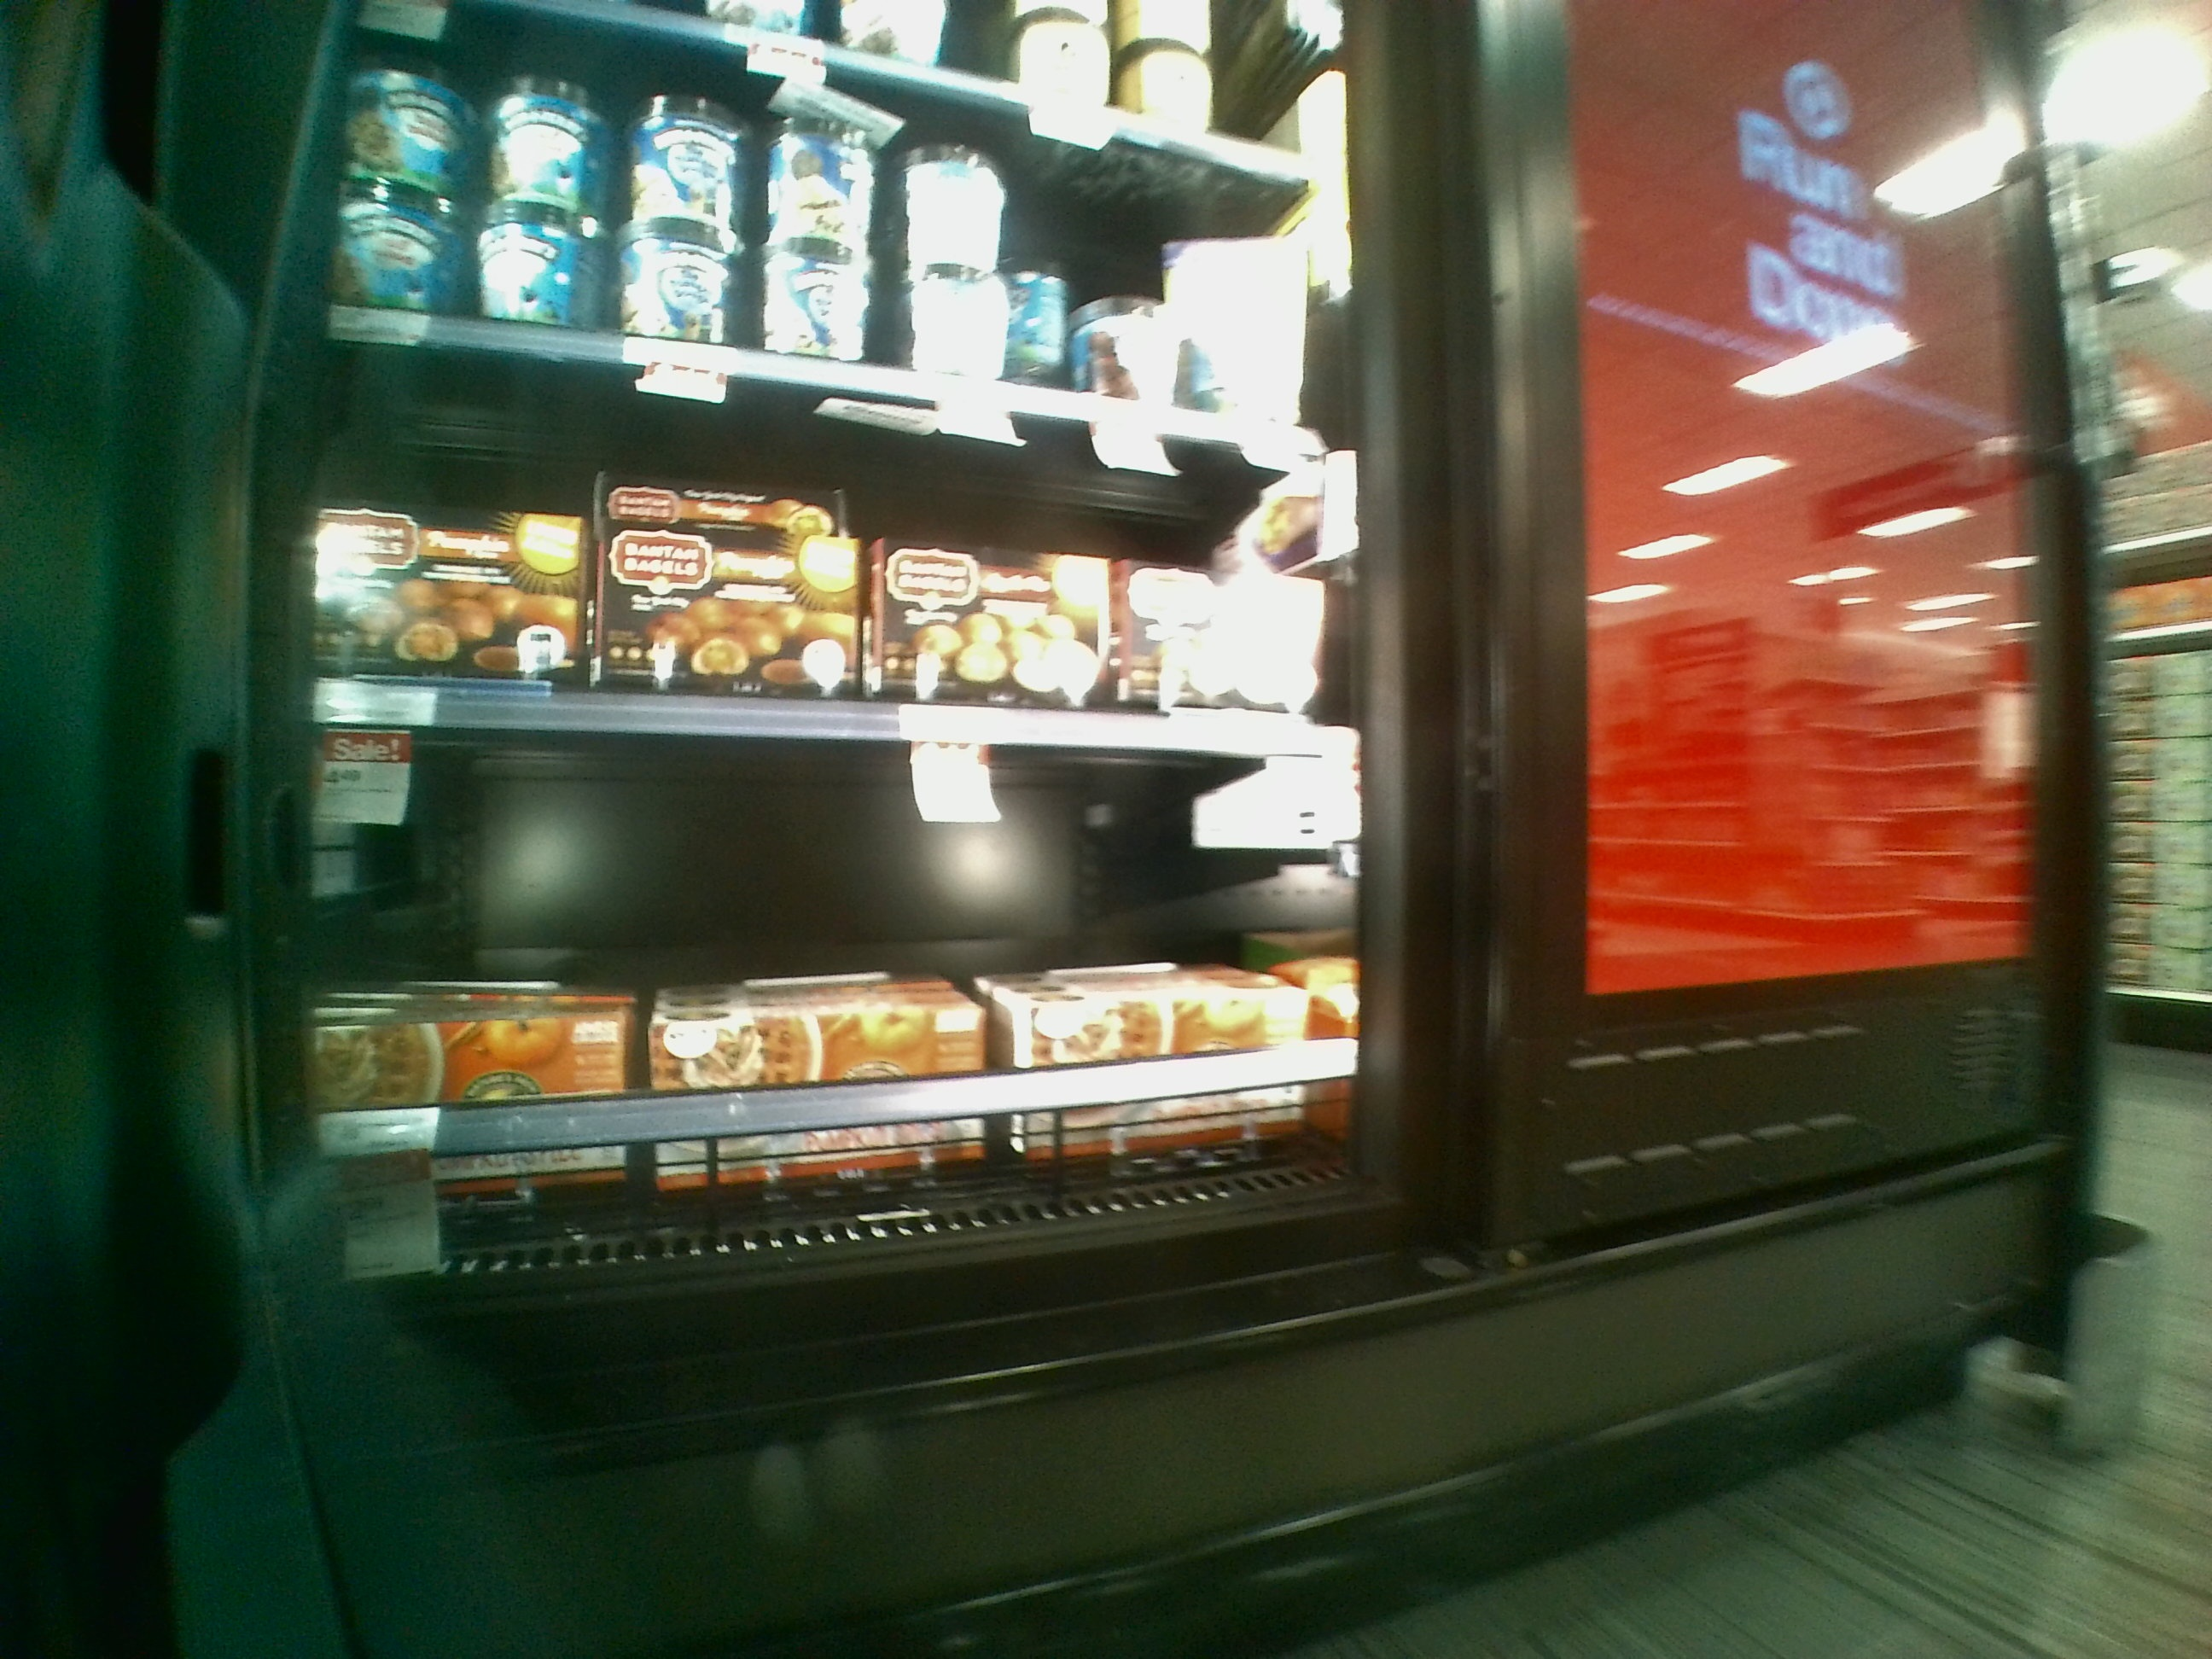shelf: (256, 721, 1406, 1236), (284, 336, 1357, 758)
